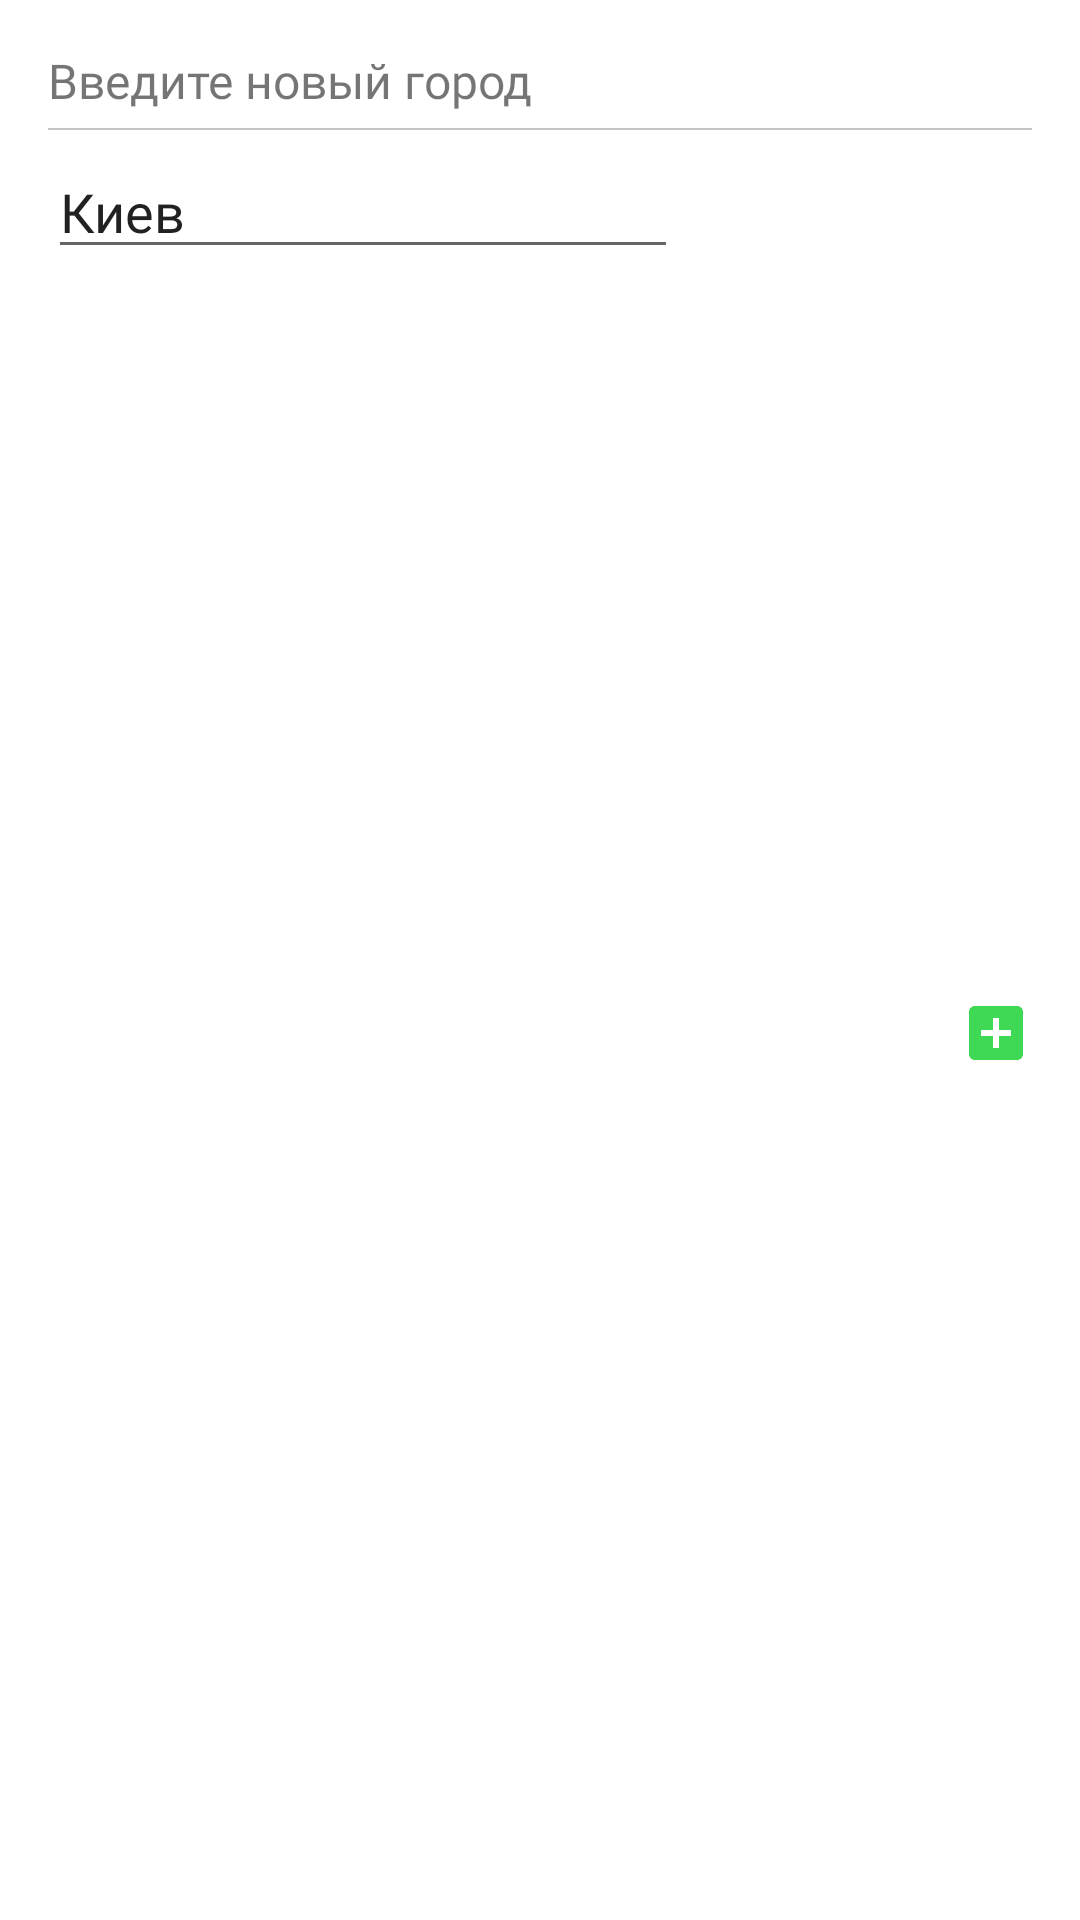

Locate icon controls on the screen. Image size 1080 x 1920, boxes as (x1, y1, x2, y2).
add: (969, 1006, 1023, 1060)
